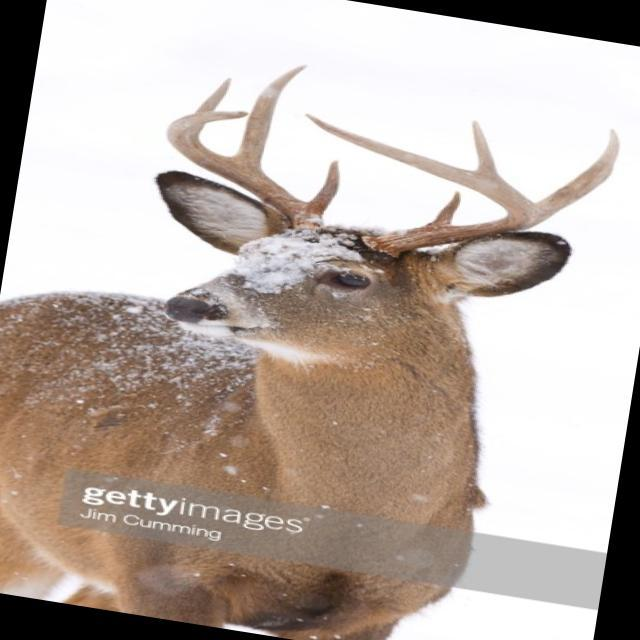L-F: (303, 114, 538, 258)
L-G1: (424, 190, 461, 227)
L-G2: (531, 129, 621, 228)
L-G3: (472, 120, 500, 176)
R-F: (166, 111, 324, 228)
R-G1: (307, 159, 341, 217)
R-G2: (233, 64, 309, 169)
